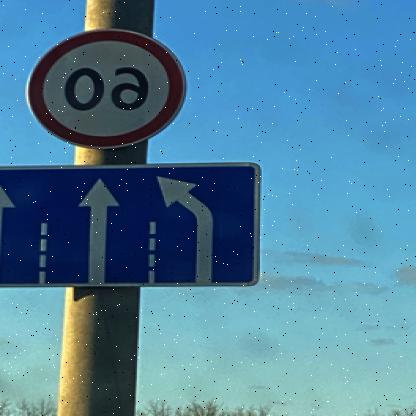speedlimit: (29, 27, 190, 146)
